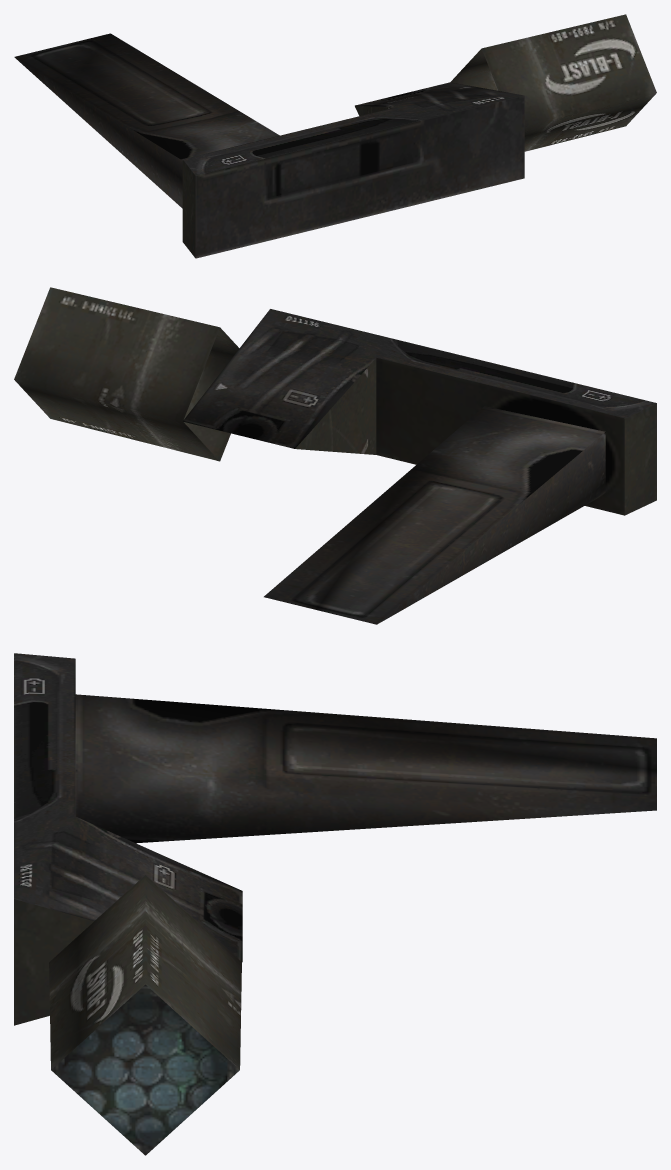
The model's file is t6_wpn_ar_hk416_grip_world_LOD2.obj.
3 views of the same model, one above another, from view 1: azimuth 30°, elevation 25°; view 2: azimuth 150°, elevation 25°; view 3: azimuth 270°, elevation 25° (orthographic). The views are drawn at different scales.
Visible parts, largest first — view 1: mtl_t6_wpn_ar_hk416_grip, mtl_t6_wpn_ar_hk416_grip_camo2; view 2: mtl_t6_wpn_ar_hk416_grip, mtl_t6_wpn_ar_hk416_grip_camo2; view 3: mtl_t6_wpn_ar_hk416_grip, mtl_t6_wpn_ar_hk416_grip_camo2.
Part boxes in pixels (x1=…): mtl_t6_wpn_ar_hk416_grip: x1=14, y1=14, x2=656, y2=175; mtl_t6_wpn_ar_hk416_grip_camo2: x1=15, y1=58, x2=524, y2=258; mtl_t6_wpn_ar_hk416_grip: x1=14, y1=287, x2=656, y2=624; mtl_t6_wpn_ar_hk416_grip_camo2: x1=295, y1=358, x2=656, y2=624; mtl_t6_wpn_ar_hk416_grip: x1=14, y1=653, x2=656, y2=1069; mtl_t6_wpn_ar_hk416_grip_camo2: x1=14, y1=899, x2=239, y2=1155.
Bounding box in the file's own units: 18.91 × 4.36 × 14.53.
